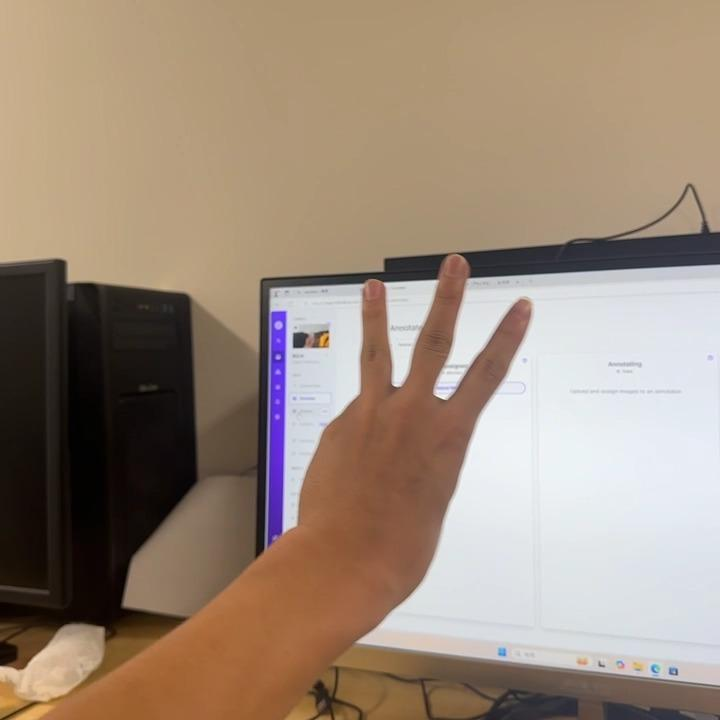without_gloves: (252, 225, 561, 611)
